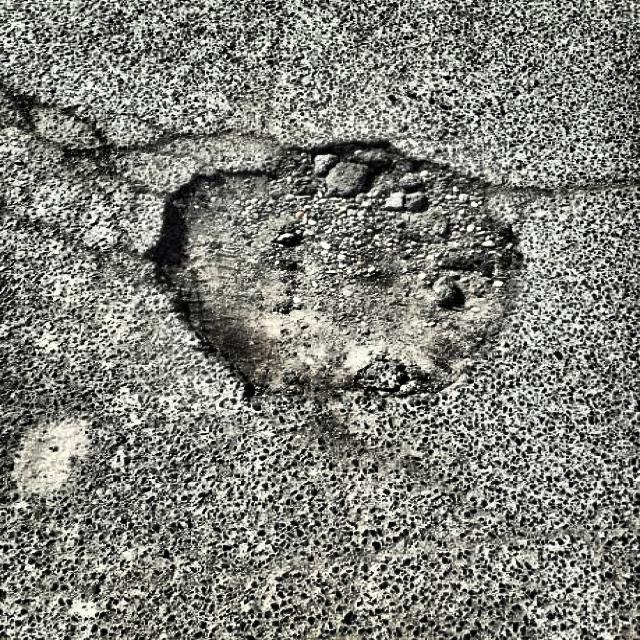pothole: (145, 140, 521, 398)
